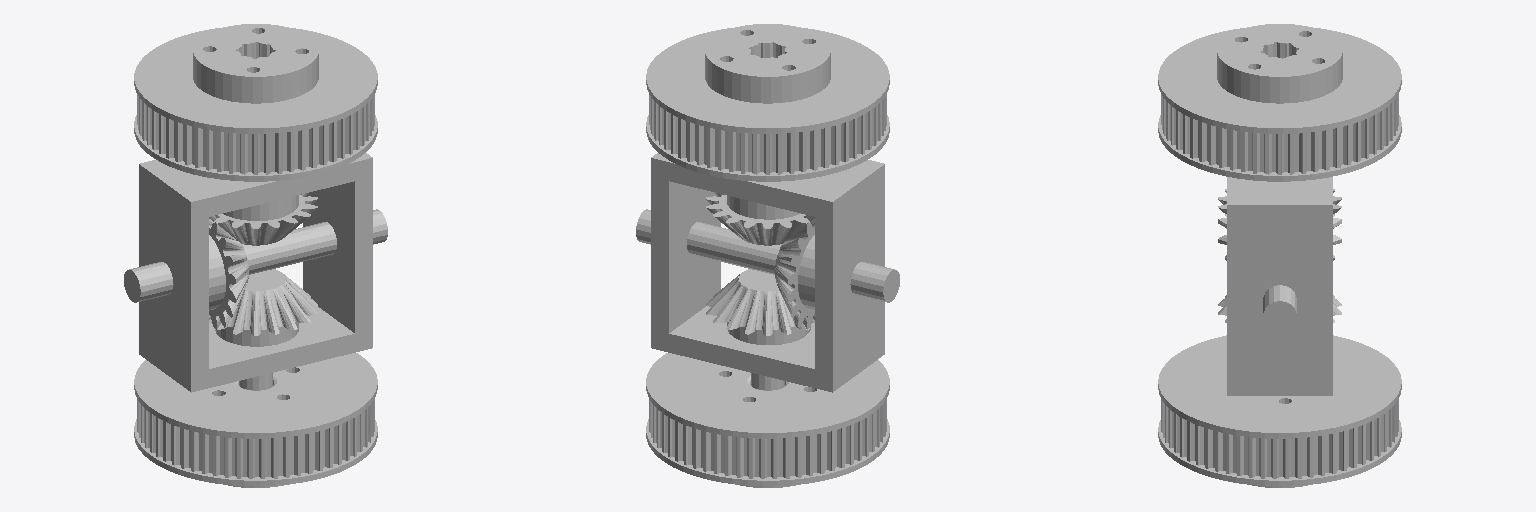
Rendered from xiaoxiaobi.obj.
The picture shows the model from 3 angles: view 1: azimuth 30°, elevation 25°; view 2: azimuth 150°, elevation 25°; view 3: azimuth 270°, elevation 25°; orthographic projection.
Parts seen in each view (by area): view 1: mesh1; view 2: mesh1; view 3: mesh1.
Boxes of the visible parts, box(x1,y1,x2,y2) form: mesh1: box(124, 24, 387, 487); mesh1: box(636, 24, 899, 487); mesh1: box(1158, 24, 1401, 487).
Bounding box in the file's own units: 0.068 × 0.108 × 0.058.